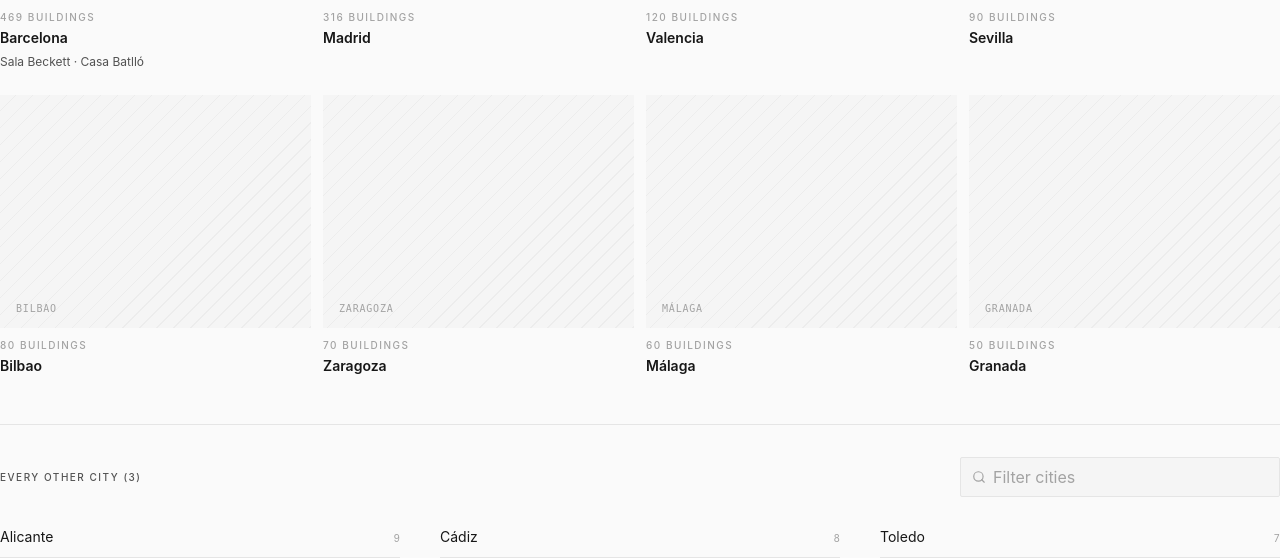
Scenario: CountryCities › says so when a filter matches nothing
The width and height of the screenshot is (1280, 558).
(page scrolled)
Type "zzzz" into the search field labelled "Filter cities" at coordinates (1120, 476), box [960,456,1279,496]
(page scrolled)
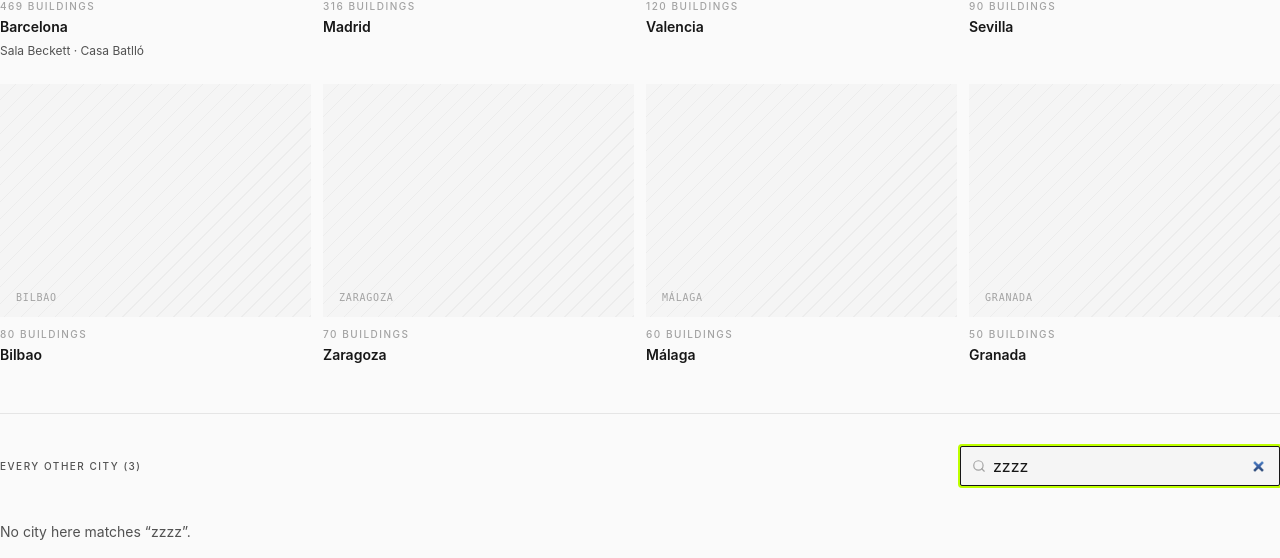
expect the text "No city here matches “zzzz”." is shown: met, box [0,522,191,540]
